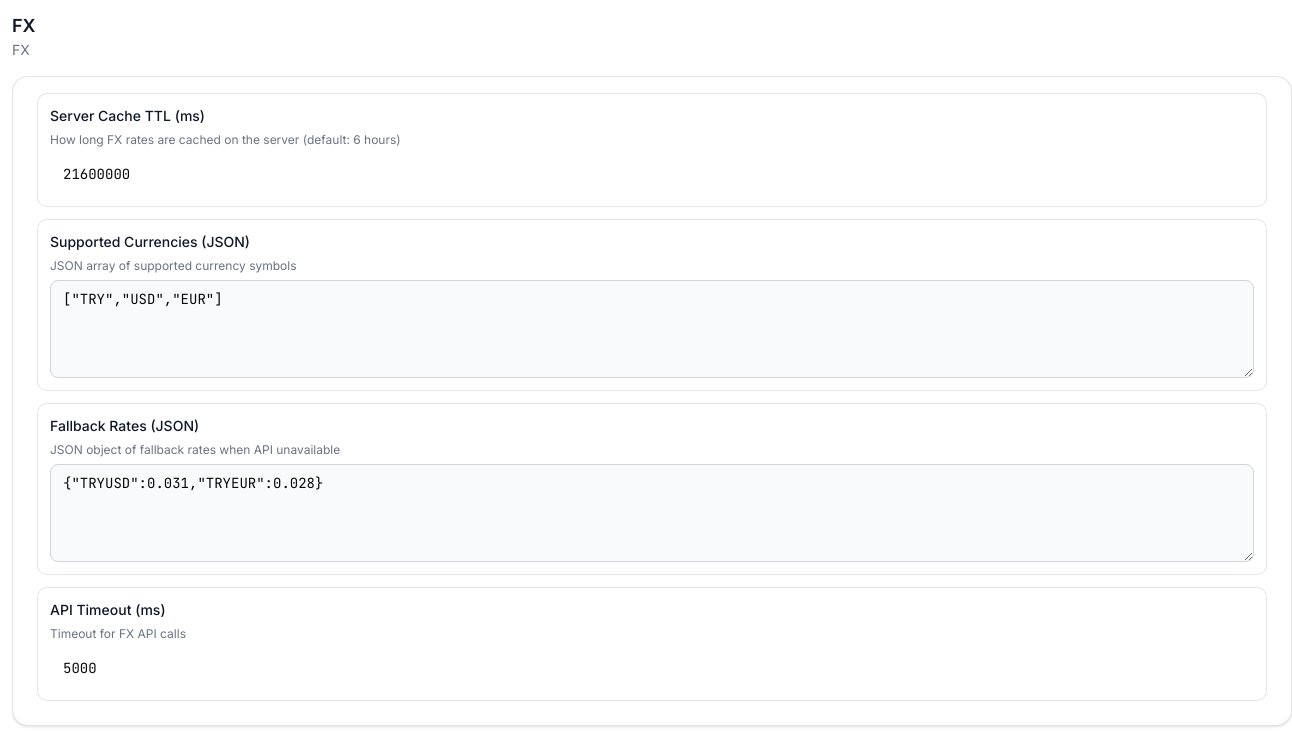
GenericSettingsPanel › JSON Validation › clears error when JSON becomes valid
Note: First make it invalid
Replace the text in the text box below "JSON array of supported currency symbols" with "[bad". click: {"x": 652, "y": 329}
box: [50,280,1254,378]
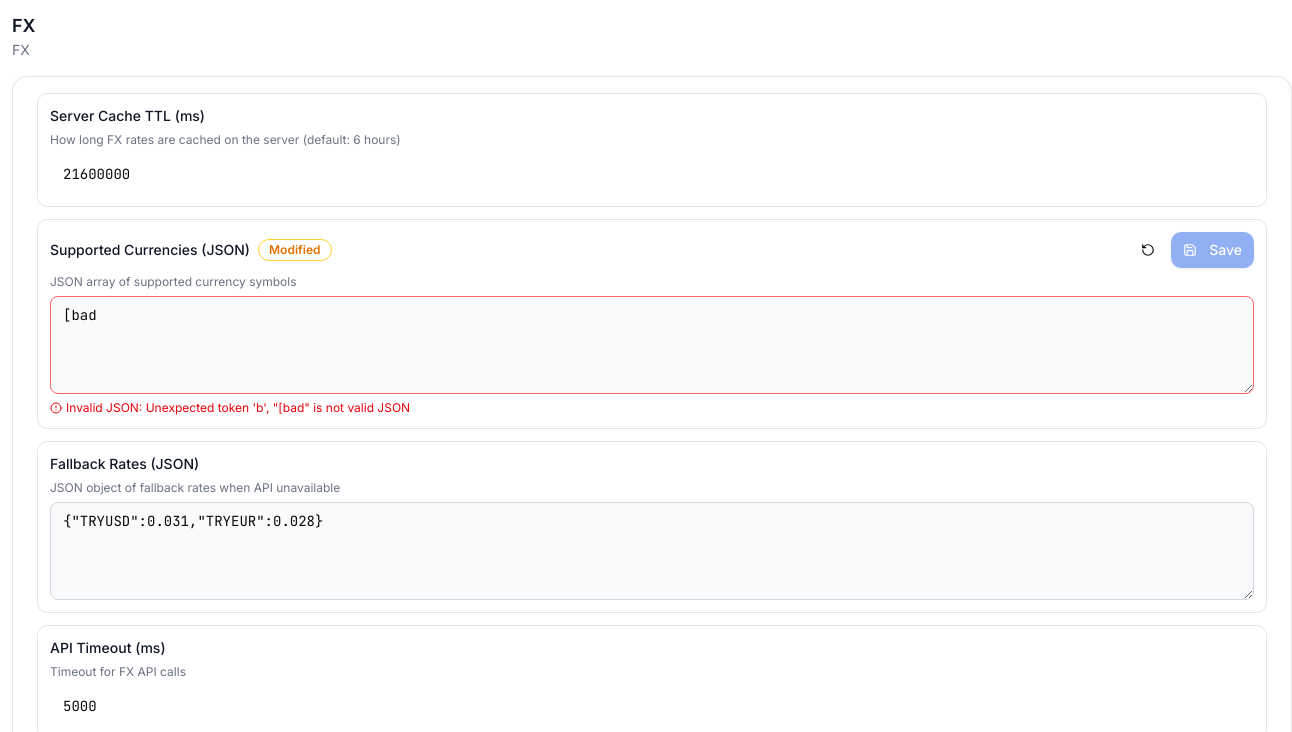
Expected: the text "Invalid JSON: Unexpected token 'b', \"[bad\" is not valid JSON" is shown, [50,400,410,415]
Note: Then fix it
Replace the text in the text box below "JSON array of supported currency symbols" with "[\"TRY\",\"USD\"]". click: {"x": 652, "y": 345}
box: [50,296,1254,394]
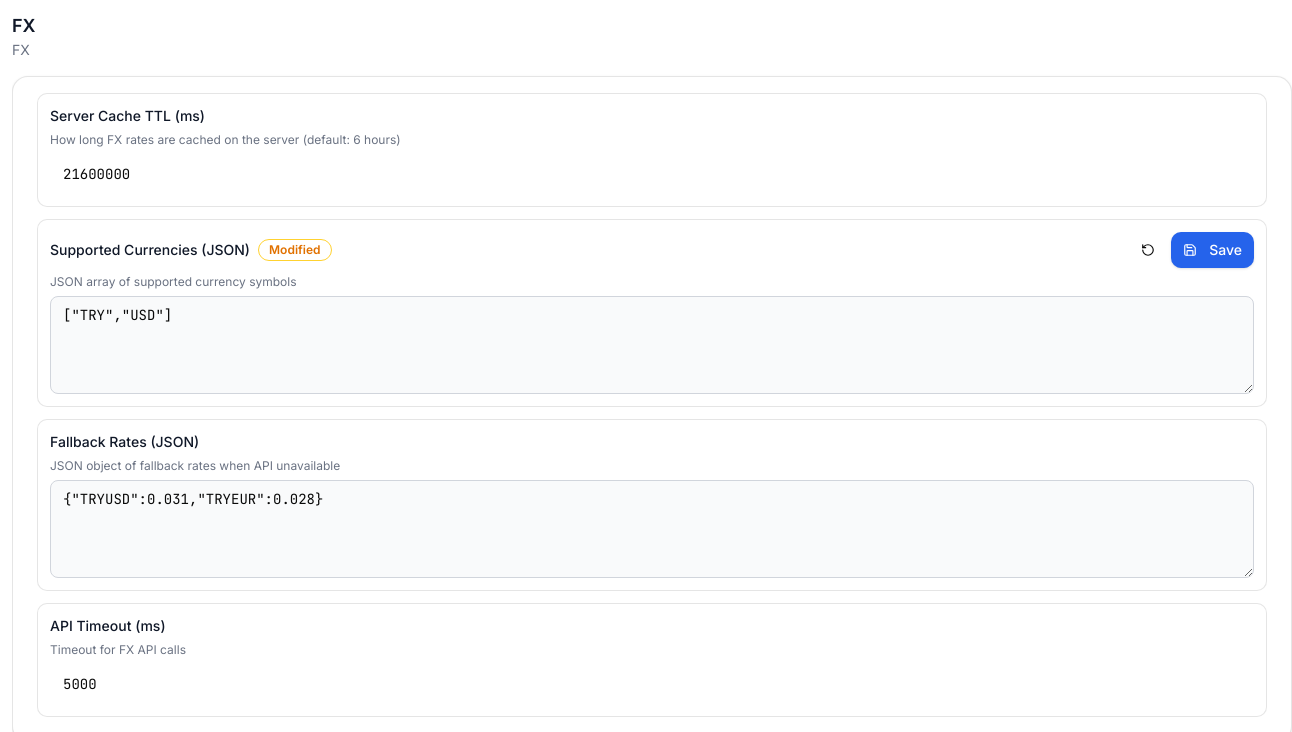
Expected: the text "Invalid JSON" is gone
